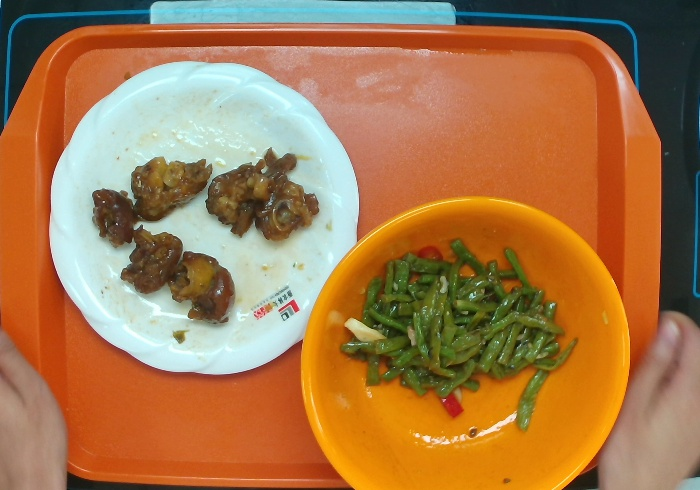ZNLD-Hua_Bian_Wan: (43, 54, 368, 385)
ZNLD-Ju_Se_Tang_Wan: (295, 190, 632, 490)
